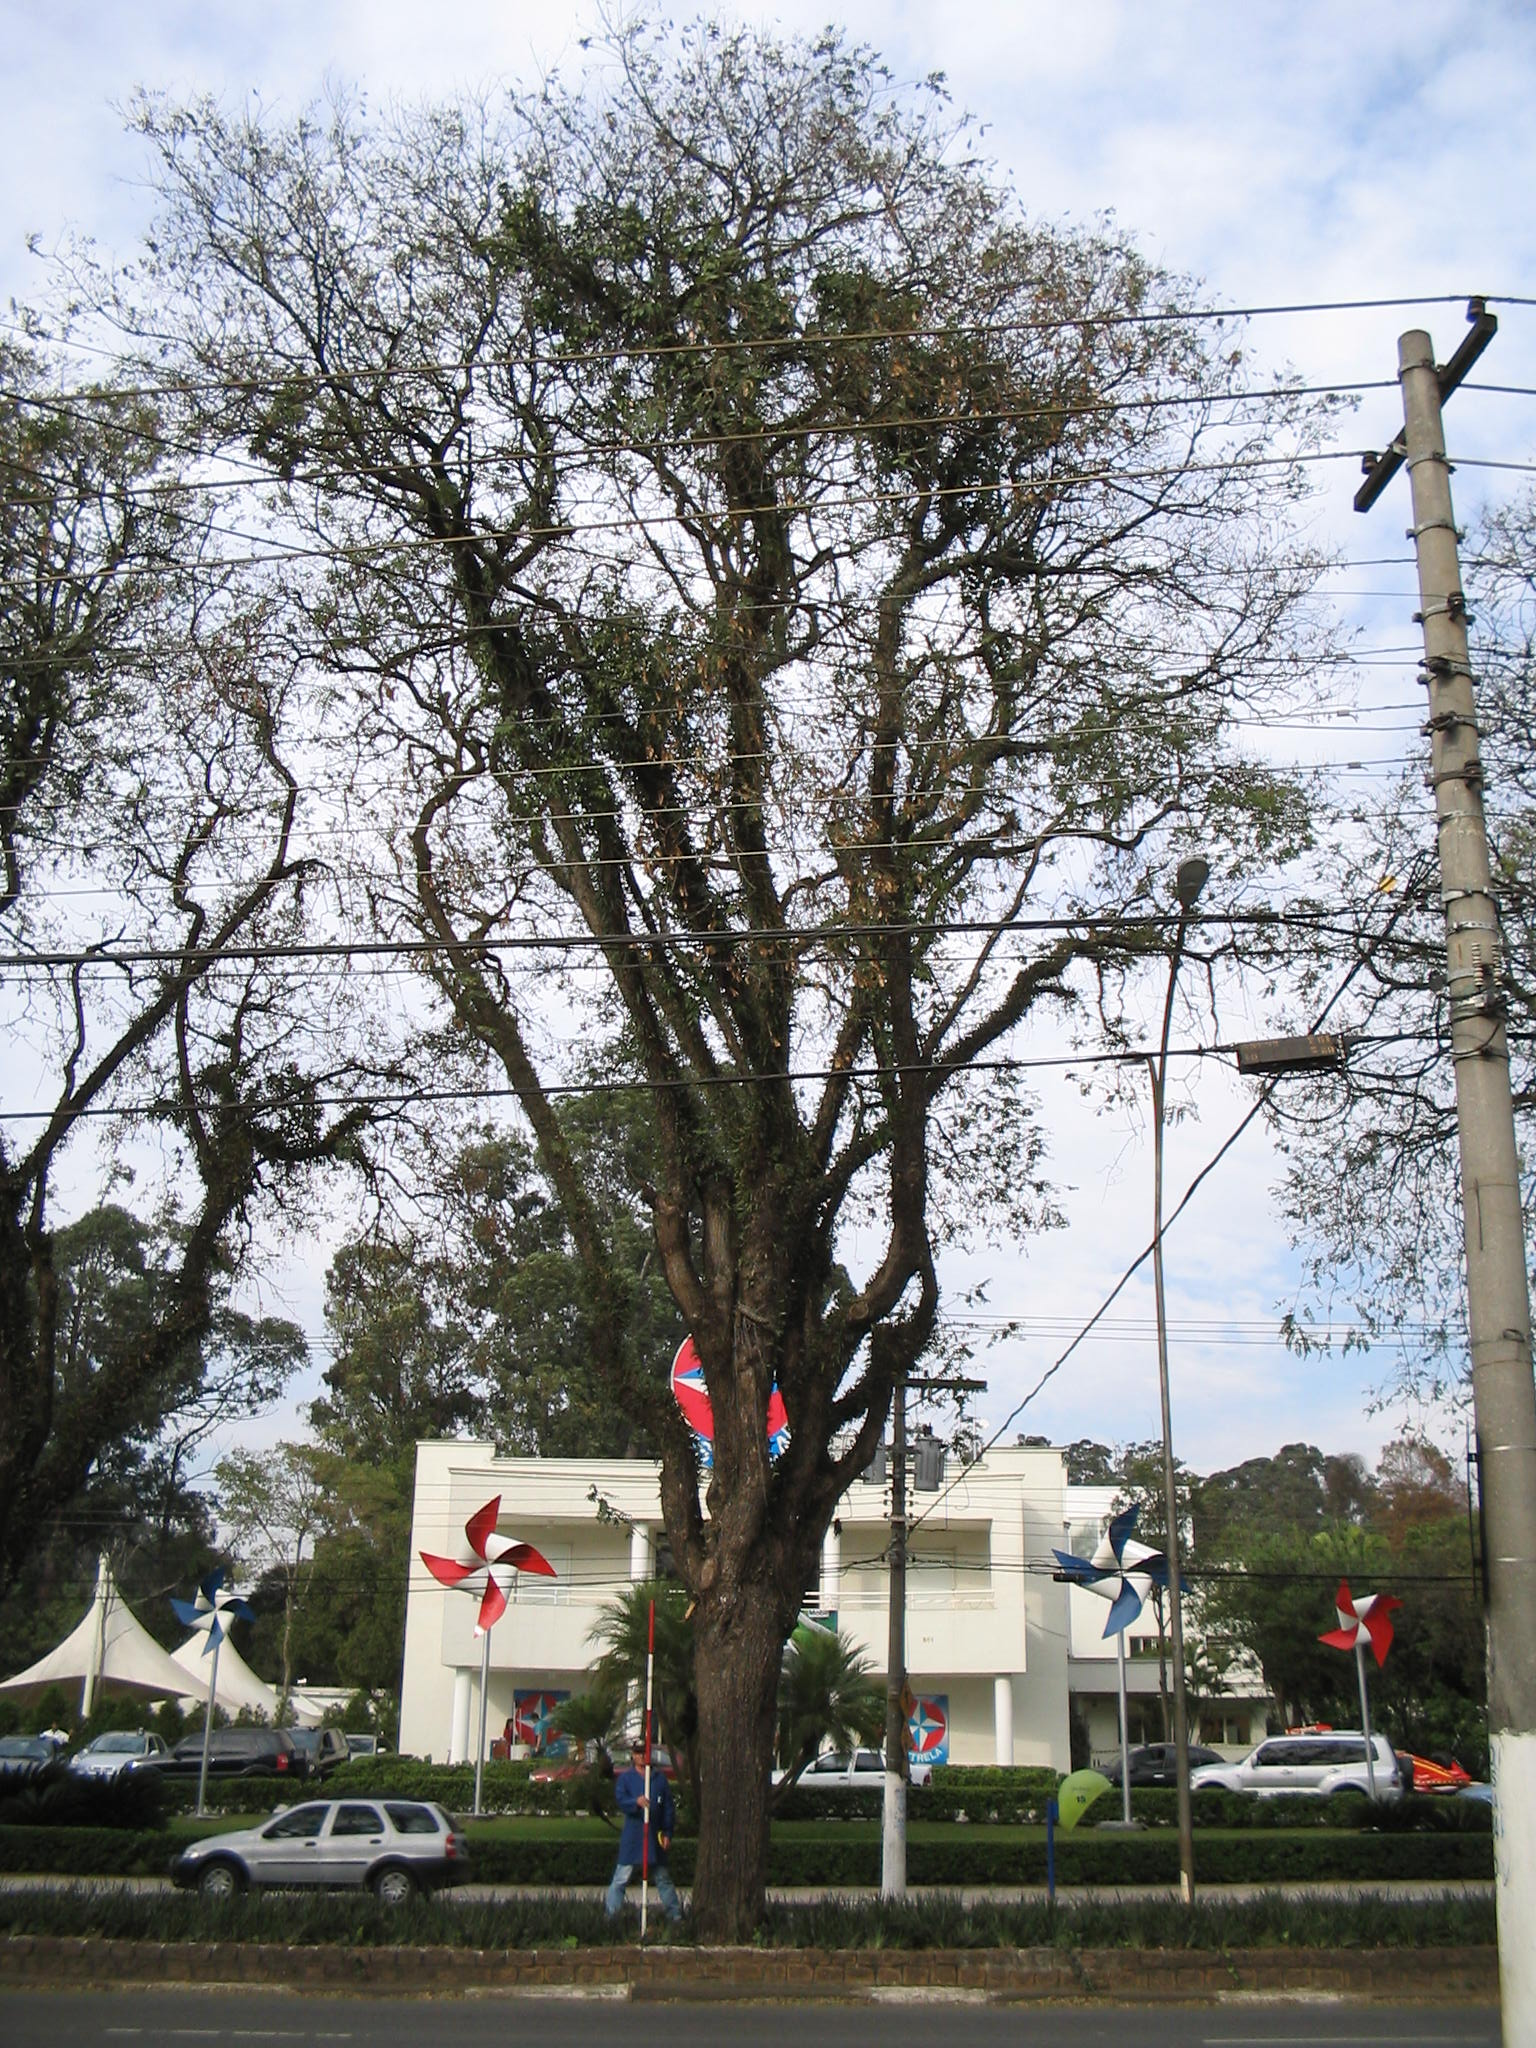stem: (665, 1576, 836, 1945)
stick: (613, 1603, 682, 1946)
tree: (39, 11, 1370, 1950)
